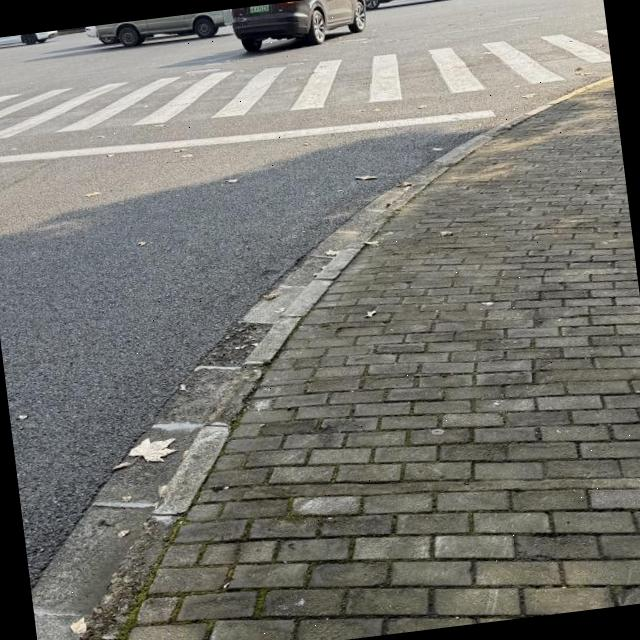curb: (78, 76, 612, 640)
